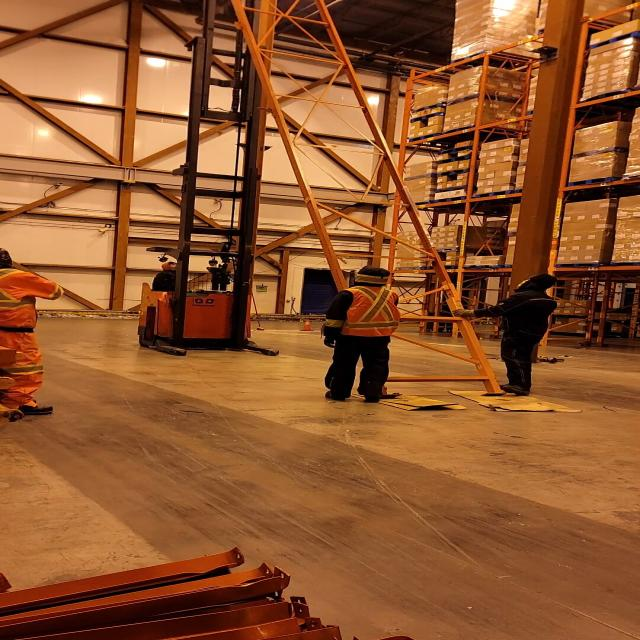forklift: (134, 164, 288, 358)
human: (449, 270, 558, 401), (316, 261, 404, 407), (0, 248, 63, 426), (145, 259, 210, 295)
objectofinterest: (230, 9, 507, 398), (440, 387, 589, 415), (341, 387, 475, 412)
